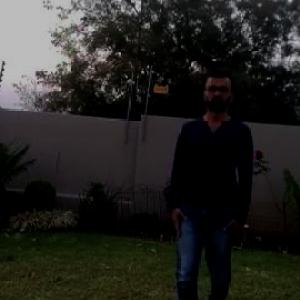follow: (170, 77, 247, 299)
